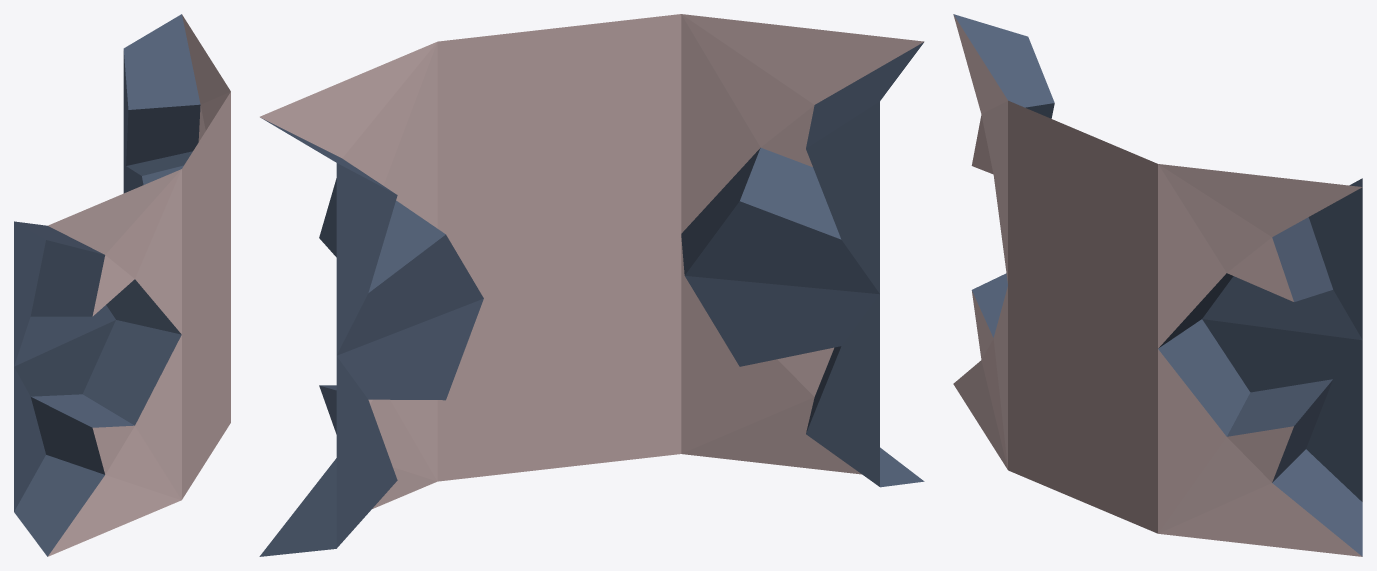
File: castle_tower_medium_deco_01.fbx
3 views of the same model, side by side, from view 1: azimuth 30°, elevation 25°; view 2: azimuth 150°, elevation 25°; view 3: azimuth 270°, elevation 25° (orthographic). The views are drawn at different scales.
Parts seen in each view (by area): view 1: castle_tower_medium_deco_01; view 2: castle_tower_medium_deco_01; view 3: castle_tower_medium_deco_01.
Part boxes in pixels (x1=…): castle_tower_medium_deco_01: x1=14, y1=14, x2=230, y2=556; castle_tower_medium_deco_01: x1=259, y1=14, x2=924, y2=556; castle_tower_medium_deco_01: x1=953, y1=14, x2=1362, y2=556.
Bounding box in the file's own units: 4.01 × 4 × 4.01.
